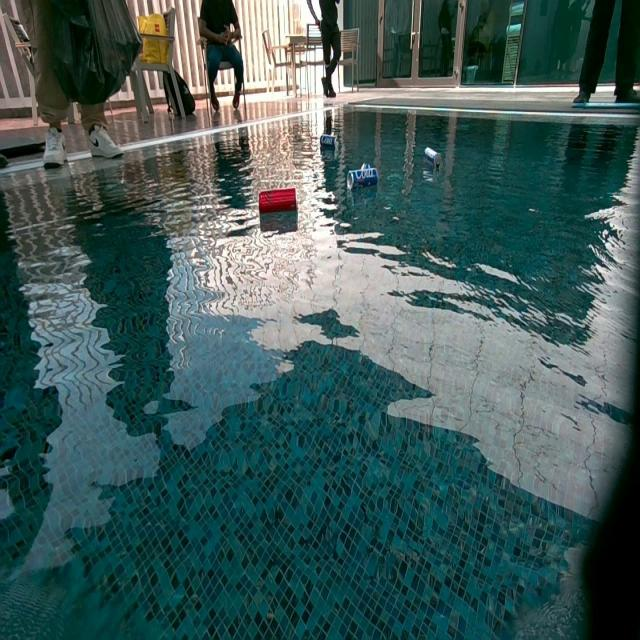Cans: (346, 165, 380, 193), (259, 190, 297, 214), (424, 146, 443, 170), (320, 134, 338, 151)
